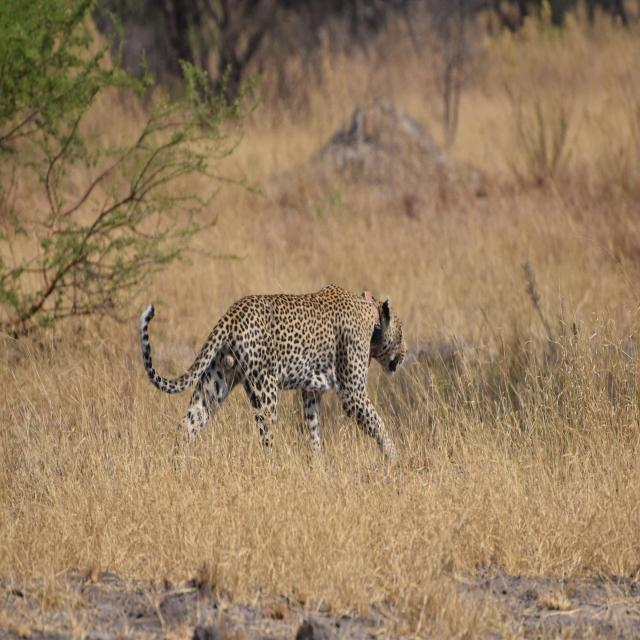Leopard: (138, 277, 402, 466)
